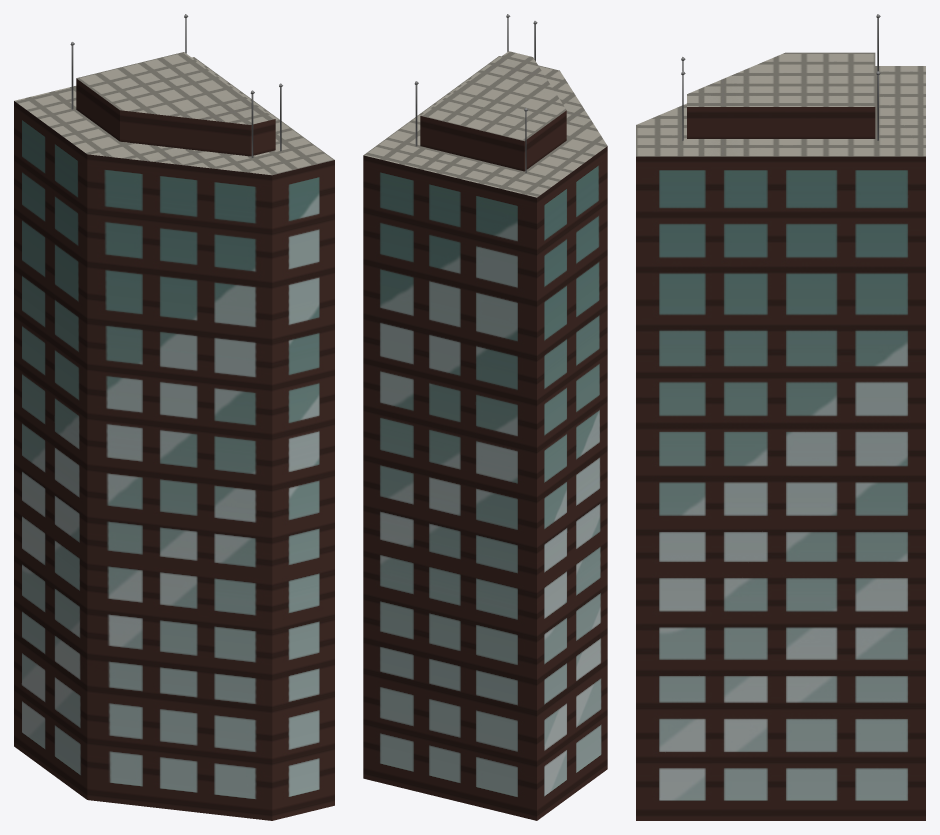
Rendered from D Town Building 4.FBX.
3 renders of one model, left to right at view 1: azimuth 30°, elevation 25°; view 2: azimuth 150°, elevation 25°; view 3: azimuth 270°, elevation 25°, orthographic. The views are drawn at different scales.
Visible parts, largest first — view 1: Downtown Building 4; view 2: Downtown Building 4; view 3: Downtown Building 4.
Boxes of the visible parts, box(x1,y1,x2,y2) form: Downtown Building 4: box(14, 14, 334, 820); Downtown Building 4: box(363, 14, 607, 820); Downtown Building 4: box(636, 14, 925, 820).
Bounding box in the file's own units: 44.18 × 167 × 59.9.
